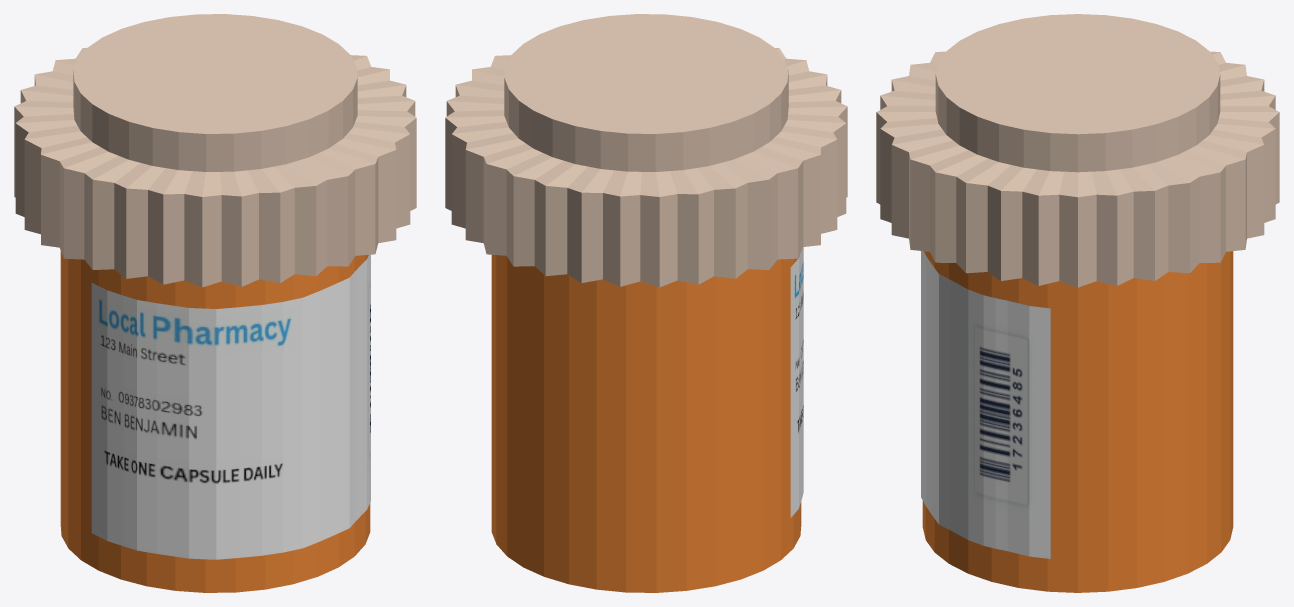
The model's file is Medication.fbx.
3 renders of one model, left to right at view 1: azimuth 30°, elevation 25°; view 2: azimuth 150°, elevation 25°; view 3: azimuth 270°, elevation 25°, orthographic.
Visible parts, largest first — view 1: Cylinder, Plane; view 2: Cylinder, Plane; view 3: Cylinder, Plane.
Part boxes in pixels (x1,y1,x2,y2): Cylinder: (14, 14, 416, 592); Plane: (91, 254, 370, 559); Cylinder: (445, 14, 847, 592); Plane: (790, 247, 803, 517); Cylinder: (876, 14, 1279, 592); Plane: (921, 251, 1050, 558).
Bounding box in the file's own units: 499 × 619 × 499.
